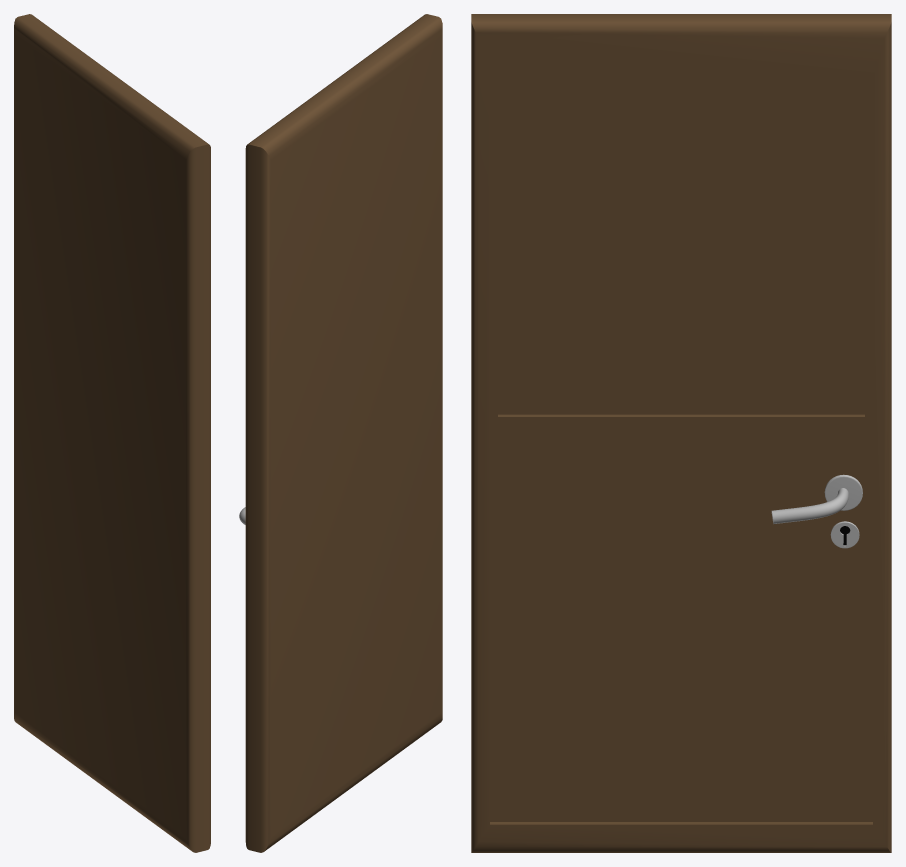
Rendered from Door.fbx.
The picture shows the model from 3 angles, left to right: view 1: azimuth 30°, elevation 25°; view 2: azimuth 150°, elevation 25°; view 3: azimuth 270°, elevation 25°; orthographic projection. The views are drawn at different scales.
Visible parts, largest first — view 1: Door; view 2: Door; view 3: Door.
Part boxes in pixels (x1,y1,x2,y2): Door: (14, 14, 210, 852); Door: (239, 14, 442, 852); Door: (471, 14, 891, 852).
Size of the model in its own units: 26 by 301 by 138.
